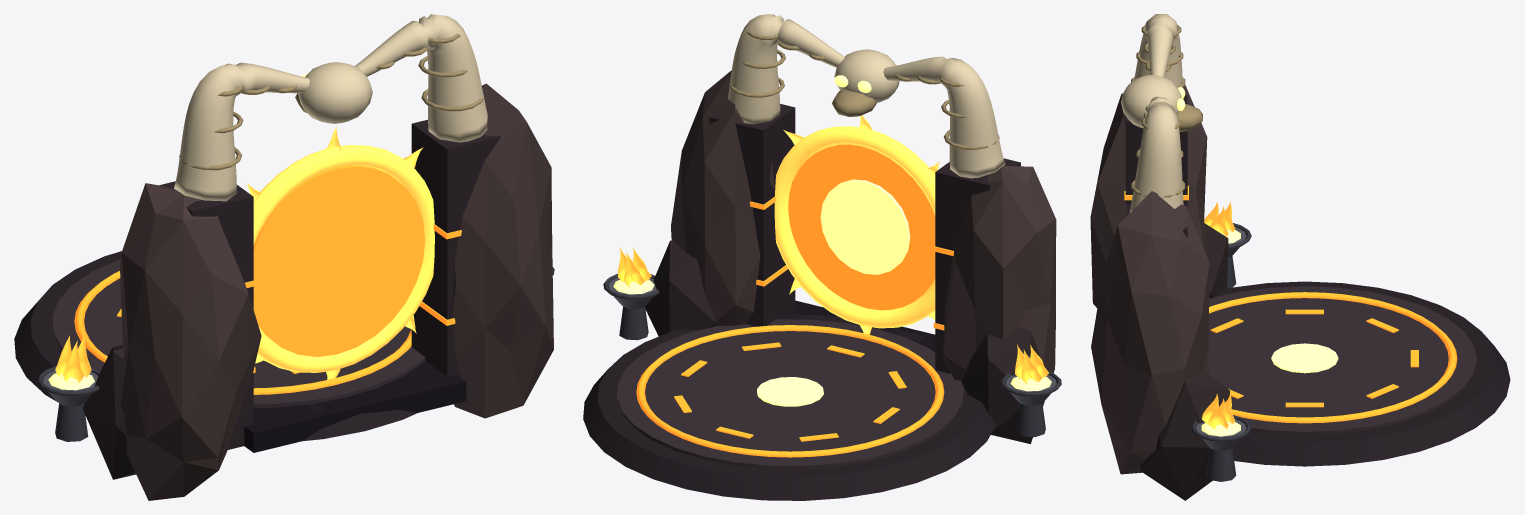
Rendered from PyroGate.glb.
3 renders of one model, left to right at view 1: azimuth 30°, elevation 25°; view 2: azimuth 150°, elevation 25°; view 3: azimuth 270°, elevation 25°, orthographic. The views are drawn at different scales.
Visible parts, largest first — view 1: Body, Magma, PortalRing, Flame; view 2: Body, Magma, GlowCore, PortalRing, Flame; view 3: Body, Magma, GlowCore, Flame.
Boxes of the visible parts, x1=… form: Body: x1=14, y1=14, x2=554, y2=500; Magma: x1=74, y1=165, x2=461, y2=394; PortalRing: x1=247, y1=126, x2=434, y2=379; Flame: x1=55, y1=335, x2=91, y2=383; Body: x1=583, y1=14, x2=1061, y2=500; Magma: x1=636, y1=144, x2=953, y2=457; GlowCore: x1=613, y1=75, x2=1051, y2=406; PortalRing: x1=774, y1=115, x2=939, y2=334; Flame: x1=617, y1=247, x2=1048, y2=383; Body: x1=1090, y1=14, x2=1510, y2=500; Magma: x1=1124, y1=185, x2=1457, y2=423; GlowCore: x1=1177, y1=87, x2=1338, y2=436; Flame: x1=1202, y1=202, x2=1235, y2=429.
Size of the model in its own units: 21.56 by 16.82 by 17.57.
5 materials, 1 textured.
